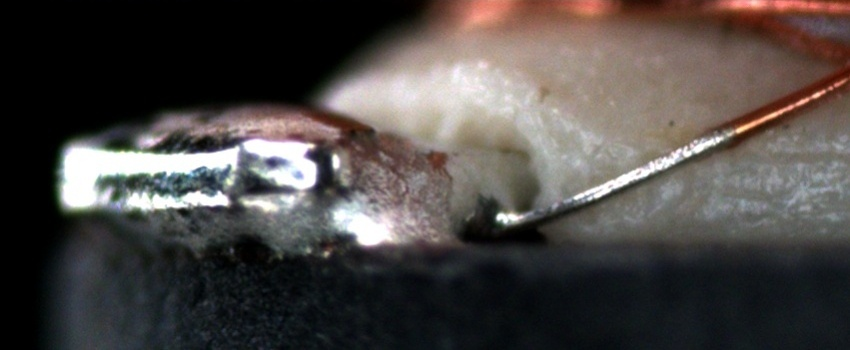DL: (703, 126, 849, 190)
TS: (492, 122, 738, 228)
